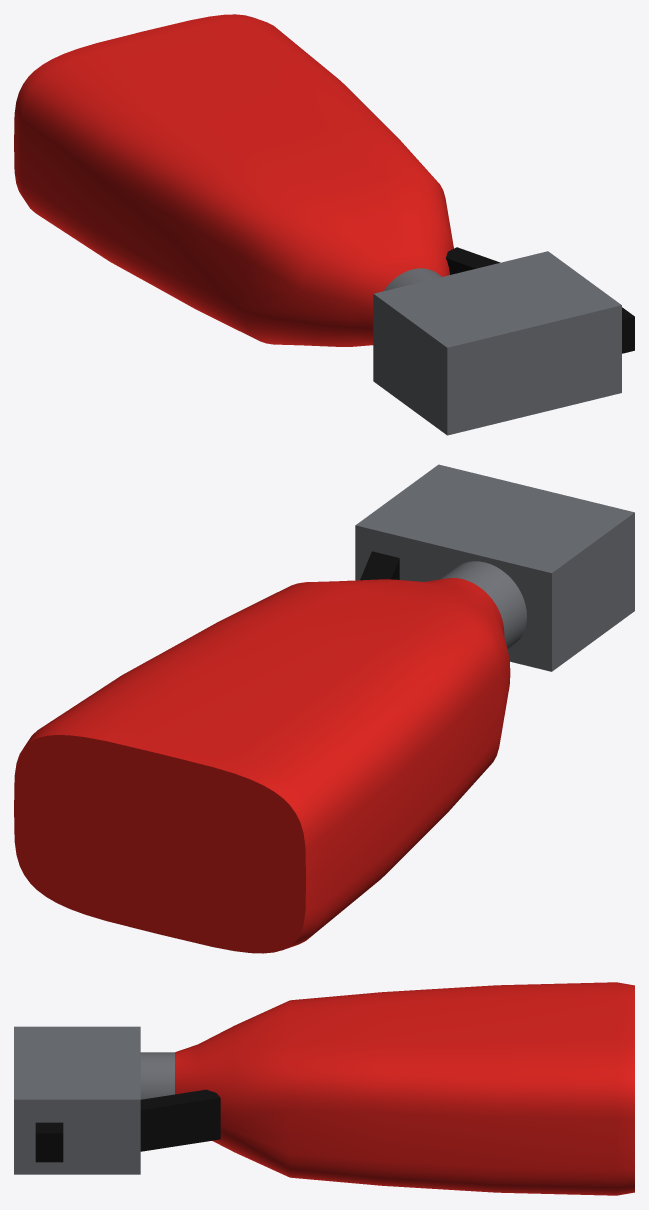
The model's file is red_spray_bottle.obj.
3 views of the same model, one above another, from view 1: azimuth 30°, elevation 25°; view 2: azimuth 150°, elevation 25°; view 3: azimuth 270°, elevation 25° (orthographic). The views are drawn at different scales.
Visible parts, largest first — view 1: part0, part3, part5, part2; view 2: part0, part1, part3, part2, part5; view 3: part0, part3, part5, part2, part4.
Part boxes in pixels (<box>): part0: <box>14,14,453,346</box>; part3: <box>373,251,621,435</box>; part5: <box>446,247,500,274</box>; part2: <box>384,268,441,290</box>; part0: <box>24,578,510,949</box>; part1: <box>14,735,305,953</box>; part3: <box>355,464,634,671</box>; part2: <box>440,561,526,649</box>; part5: <box>360,551,399,580</box>; part0: <box>175,982,634,1195</box>; part3: <box>14,1026,140,1174</box>; part5: <box>140,1089,220,1151</box>; part2: <box>140,1052,174,1099</box>; part4: <box>35,1122,63,1162</box>.
Size of the model in its own units: 0.118 by 0.068 by 0.27.
